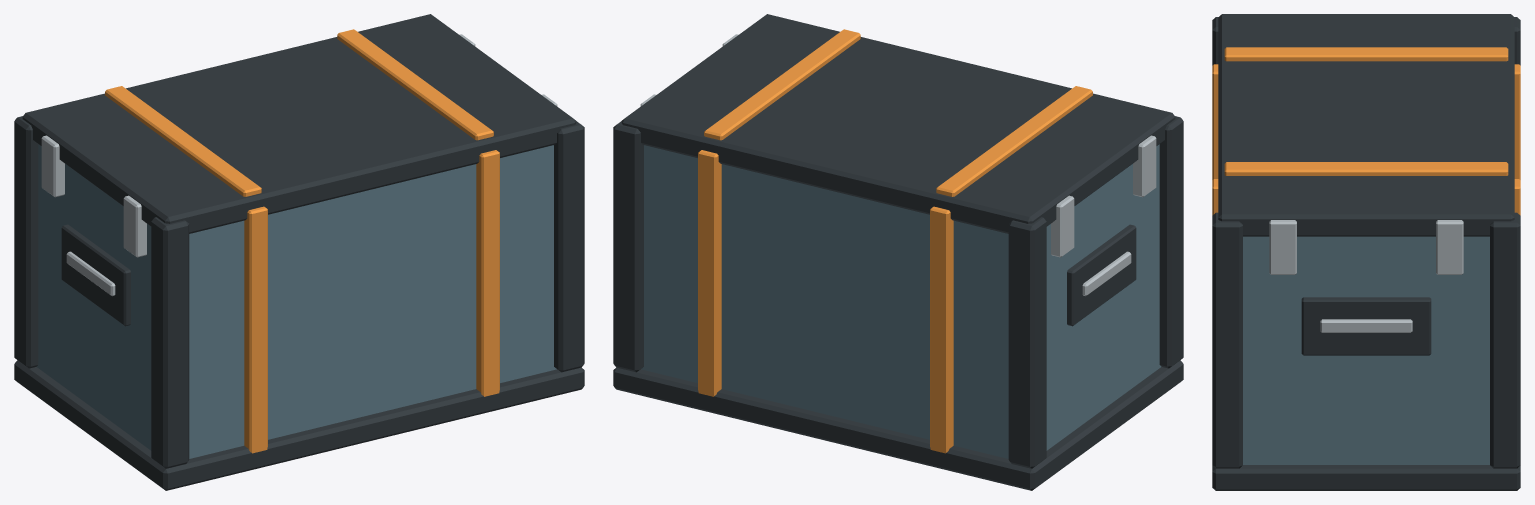
3 views of the same model, side by side, from view 1: azimuth 30°, elevation 25°; view 2: azimuth 150°, elevation 25°; view 3: azimuth 270°, elevation 25° (orthographic).
Visible parts, largest first — view 1: Cargo_Container; view 2: Cargo_Container; view 3: Cargo_Container.
Part boxes in pixels (box(x1,y1,x2,y2)): Cargo_Container: box(14, 14, 584, 490); Cargo_Container: box(613, 14, 1183, 490); Cargo_Container: box(1212, 14, 1520, 490).
Size of the model in its own units: 0.8 by 0.5 by 0.5.
